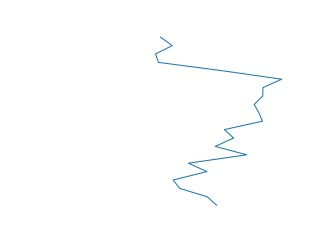floodPlain: (153, 35, 284, 207)
